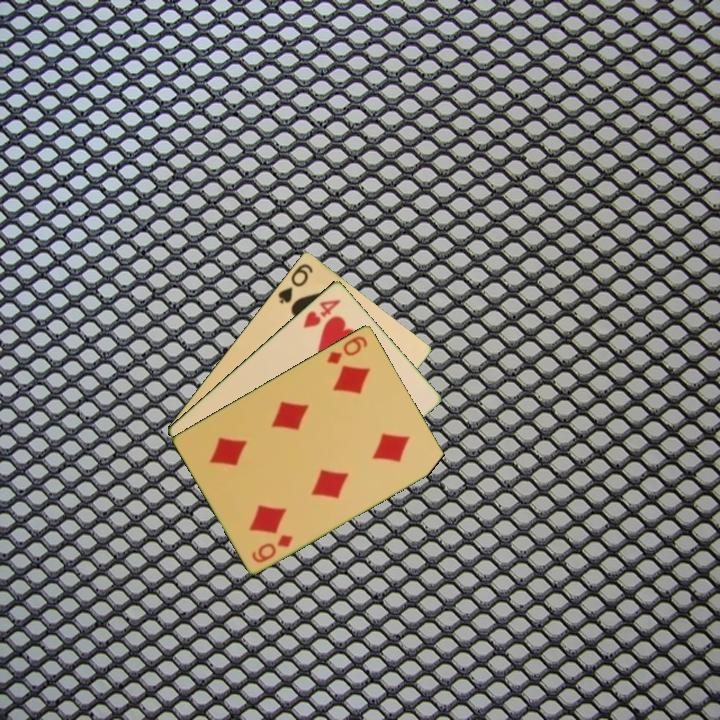4h: (299, 295, 344, 331)
6d: (323, 332, 371, 367), (248, 531, 296, 565)
6s: (274, 259, 316, 306)
